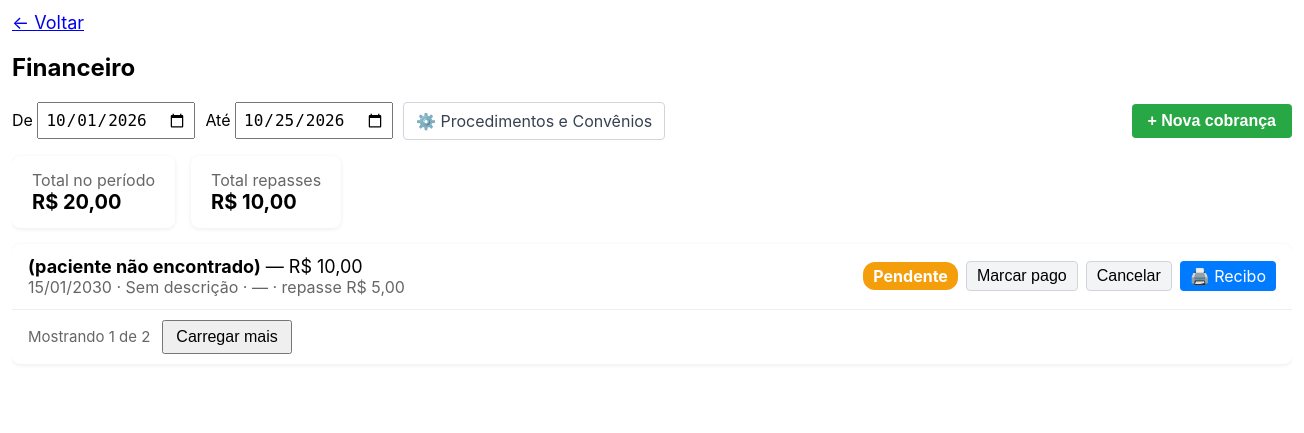
Test case: carregar mais busca a próxima página e acrescenta à lista
The image size is (1304, 433).
Click the button "Carregar mais": click(227, 337) x1=162 y1=320 x2=292 y2=354
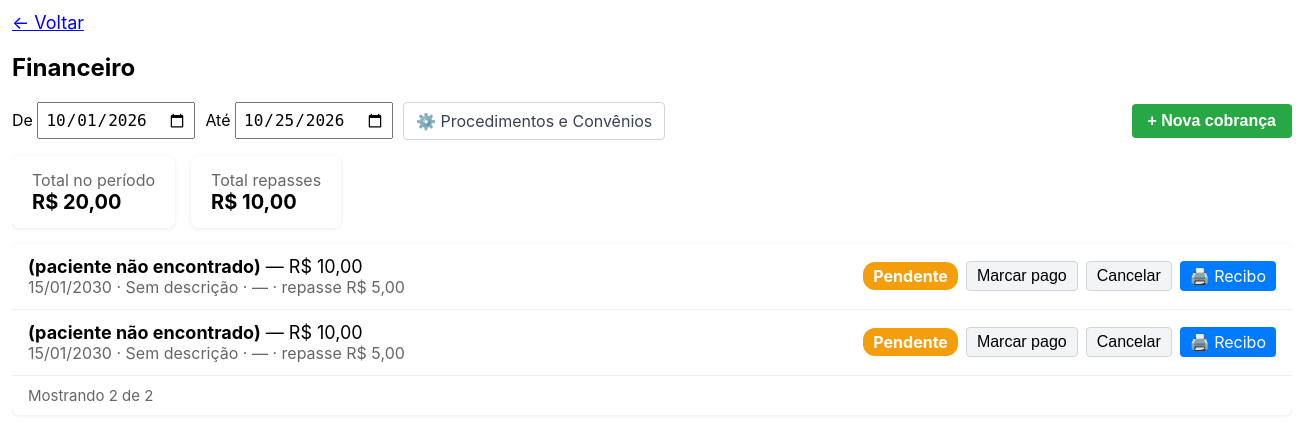
Expected: the text "Mostrando 2 de 2" is shown, x1=28 y1=386 x2=153 y2=405
Expected: the button "Carregar mais" is gone
